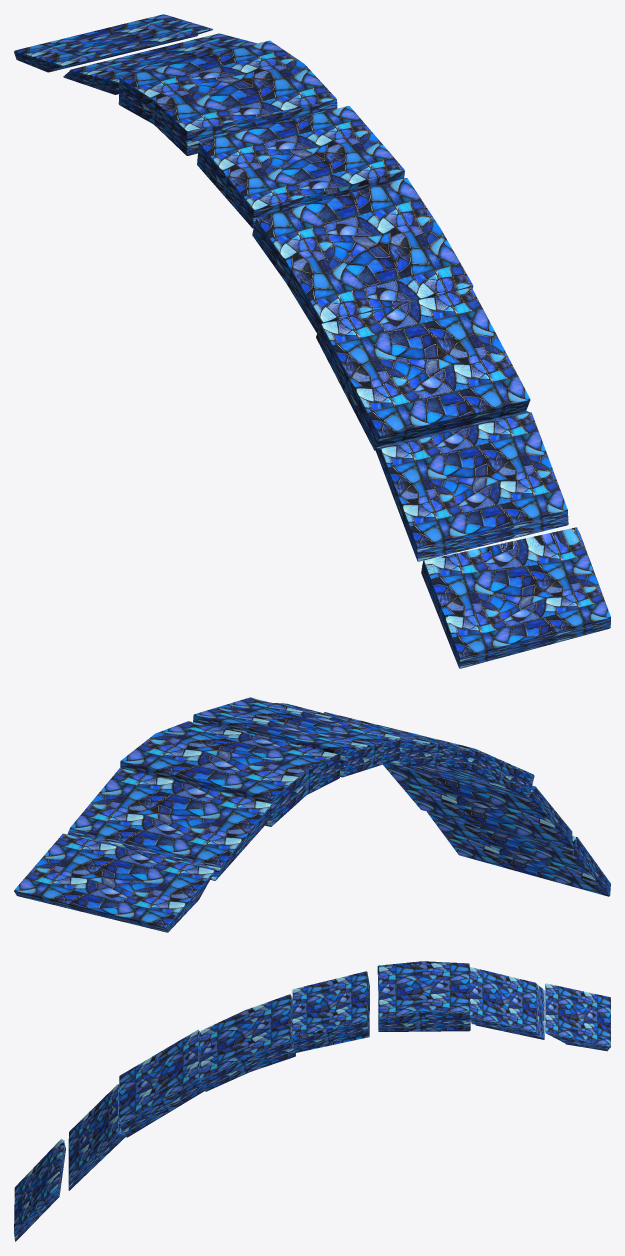
Rendered from bridgeBentGlass_lowPoly.glb.
The picture shows the model from 3 angles, top to bottom: view 1: azimuth 30°, elevation 25°; view 2: azimuth 150°, elevation 25°; view 3: azimuth 270°, elevation 25°; orthographic projection. The views are drawn at different scales.
Visible parts, largest first — view 1: Mesh_168.004; view 2: Mesh_168.004; view 3: Mesh_168.004.
Part boxes in pixels (x1,y1,x2,y2): Mesh_168.004: (14, 14, 610, 668); Mesh_168.004: (14, 697, 610, 932); Mesh_168.004: (14, 961, 610, 1241).
Size of the model in its own units: 0.7706 by 1.66 by 3.84.
1 material, 1 textured.
